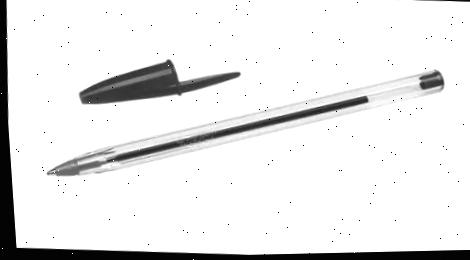pen-pencil: (48, 71, 443, 175), (80, 59, 240, 103)
